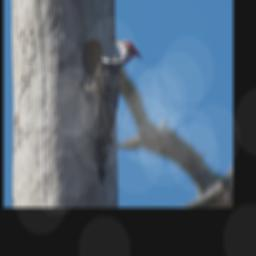Woodpecker: (72, 35, 142, 184)
